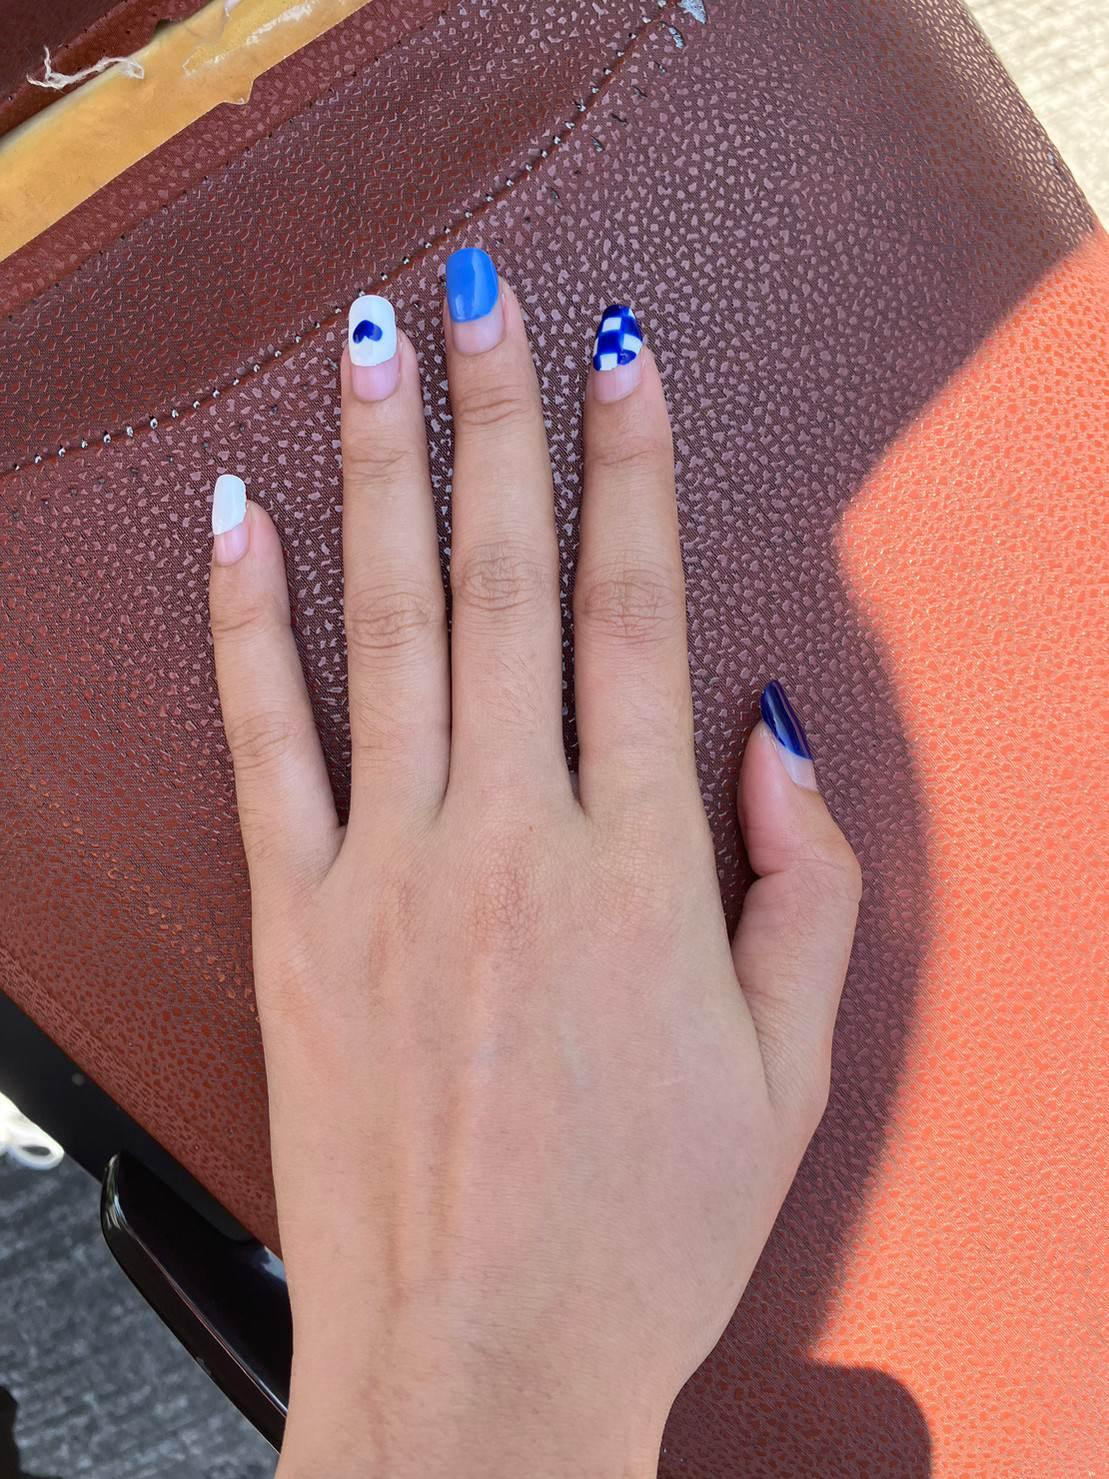hand: (200, 234, 863, 1361)
